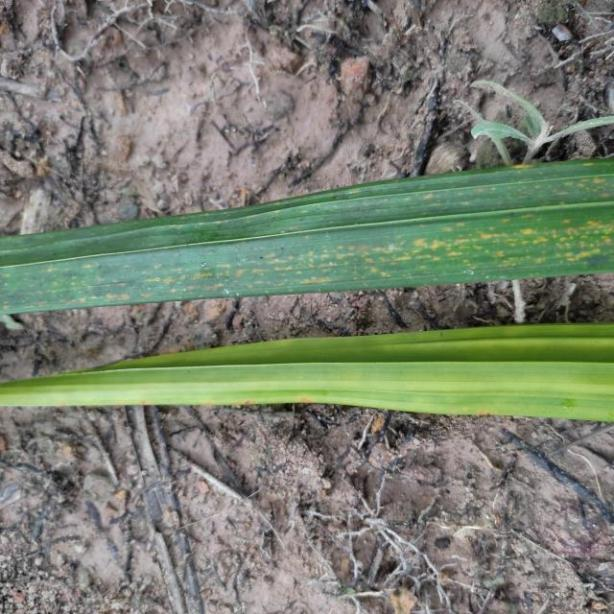nitrogen: (0, 158, 614, 318), (1, 323, 614, 422)
